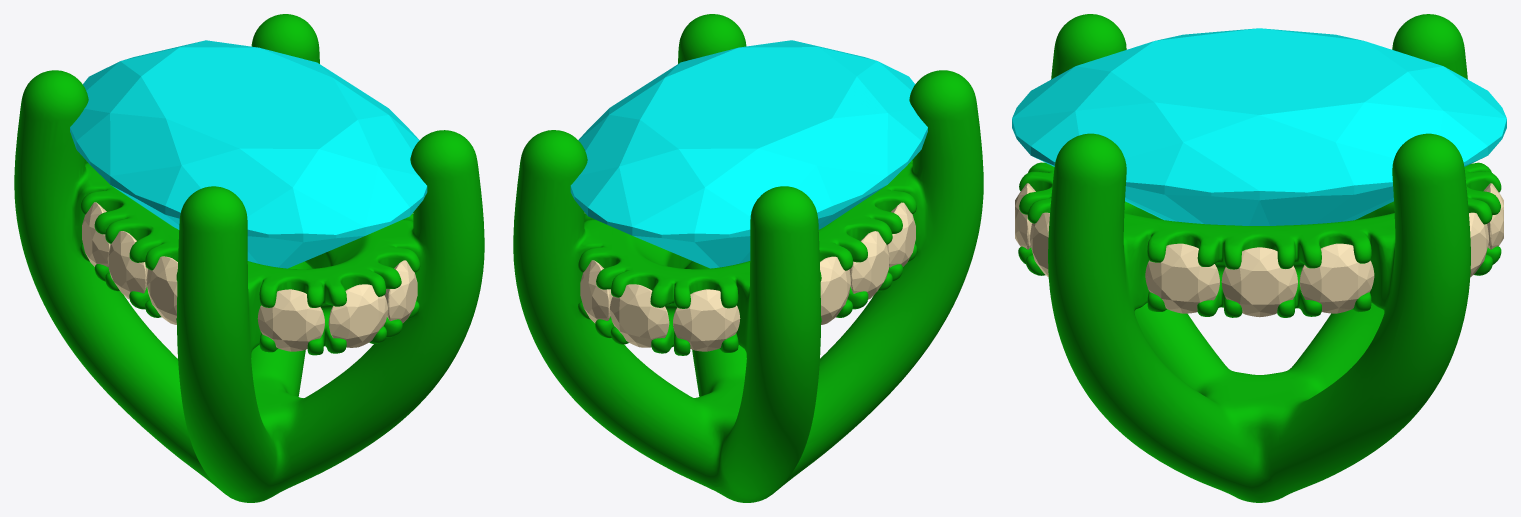
The picture shows the model from 3 angles, left to right: view 1: azimuth 30°, elevation 25°; view 2: azimuth 150°, elevation 25°; view 3: azimuth 270°, elevation 25°; orthographic projection. The views are drawn at different scales.
Parts seen in each view (by area): view 1: Metal01, Diamond_Oval, Diamond_Round.005, Diamond_Round.004, Diamond_Round.010, Diamond_Round.009, Diamond_Round.003, Diamond_Round.011; view 2: Metal01, Diamond_Oval, Diamond_Round, Diamond_Round.001, Diamond_Round.010, Diamond_Round.011, Diamond_Round.002, Diamond_Round.009; view 3: Metal01, Diamond_Oval, Diamond_Round.007, Diamond_Round.008, Diamond_Round.006, Diamond_Round.003, Diamond_Round.002, Diamond_Round.004, Diamond_Round.001.
Boxes of the visible parts, x1,y1,x2,y2 form: Metal01: (14, 14, 484, 502); Diamond_Oval: (70, 40, 427, 268); Diamond_Round.005: (257, 289, 324, 351); Diamond_Round.004: (328, 284, 387, 347); Diamond_Round.010: (107, 231, 147, 299); Diamond_Round.009: (146, 256, 177, 324); Diamond_Round.003: (384, 260, 417, 323); Diamond_Round.011: (82, 202, 110, 267); Metal01: (513, 14, 983, 502); Diamond_Oval: (570, 40, 927, 268); Diamond_Round: (673, 289, 740, 351); Diamond_Round.001: (610, 284, 669, 347); Diamond_Round.010: (849, 231, 889, 299); Diamond_Round.011: (820, 256, 851, 324); Diamond_Round.002: (580, 260, 612, 323); Diamond_Round.009: (887, 202, 915, 267); Metal01: (1018, 14, 1501, 502); Diamond_Oval: (1012, 28, 1506, 225); Diamond_Round.007: (1221, 247, 1297, 317); Diamond_Round.008: (1145, 243, 1219, 313); Diamond_Round.006: (1299, 243, 1374, 313); Diamond_Round.003: (1030, 212, 1049, 276); Diamond_Round.002: (1469, 212, 1488, 276); Diamond_Round.004: (1015, 183, 1035, 249); Diamond_Round.001: (1483, 183, 1503, 249).
Size of the model in its own units: 4.82 by 6.16 by 6.5.
